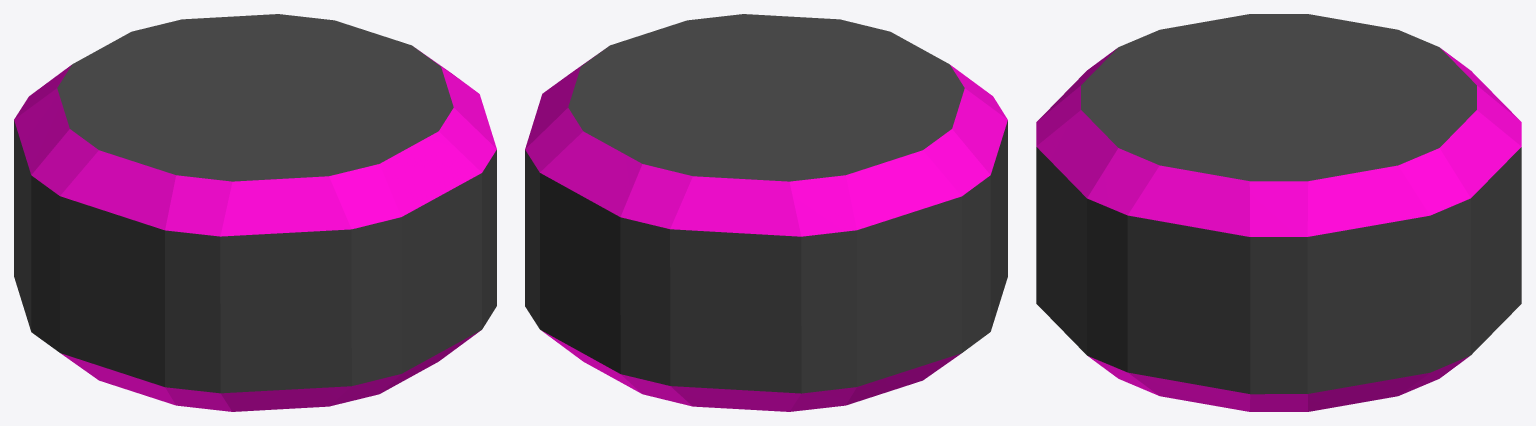
The model's file is CylinderPink.obj.
3 views of the same model, side by side, from view 1: azimuth 30°, elevation 25°; view 2: azimuth 150°, elevation 25°; view 3: azimuth 270°, elevation 25° (orthographic).
Visible parts, largest first — view 1: pCylinder1; view 2: pCylinder1; view 3: pCylinder1.
Part boxes in pixels (box(x1,y1,x2,y2)): pCylinder1: box(14, 14, 496, 411); pCylinder1: box(525, 14, 1007, 411); pCylinder1: box(1036, 14, 1521, 411).
Bounding box in the file's own units: 0.9533 × 0.5 × 0.9533.
Materials: 1 (1 with a texture image).
